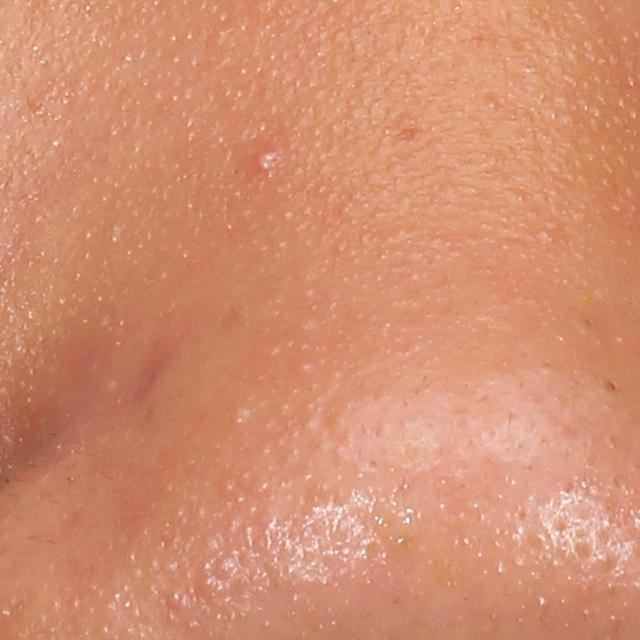pustule: (249, 149, 277, 179)
